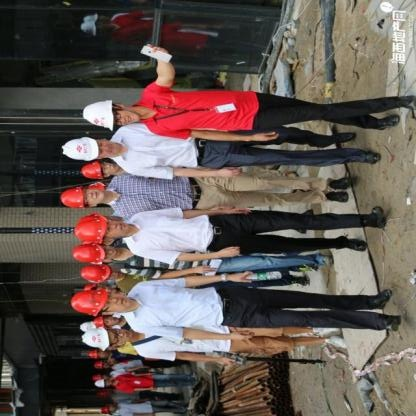red: (68, 285, 118, 318), (73, 215, 111, 246), (56, 186, 88, 212), (74, 161, 109, 182), (77, 265, 113, 282), (92, 317, 109, 327), (90, 362, 103, 372), (98, 406, 108, 414), (88, 352, 98, 358)
white: (73, 97, 120, 136), (58, 135, 101, 163), (79, 326, 111, 354), (94, 379, 108, 389)
